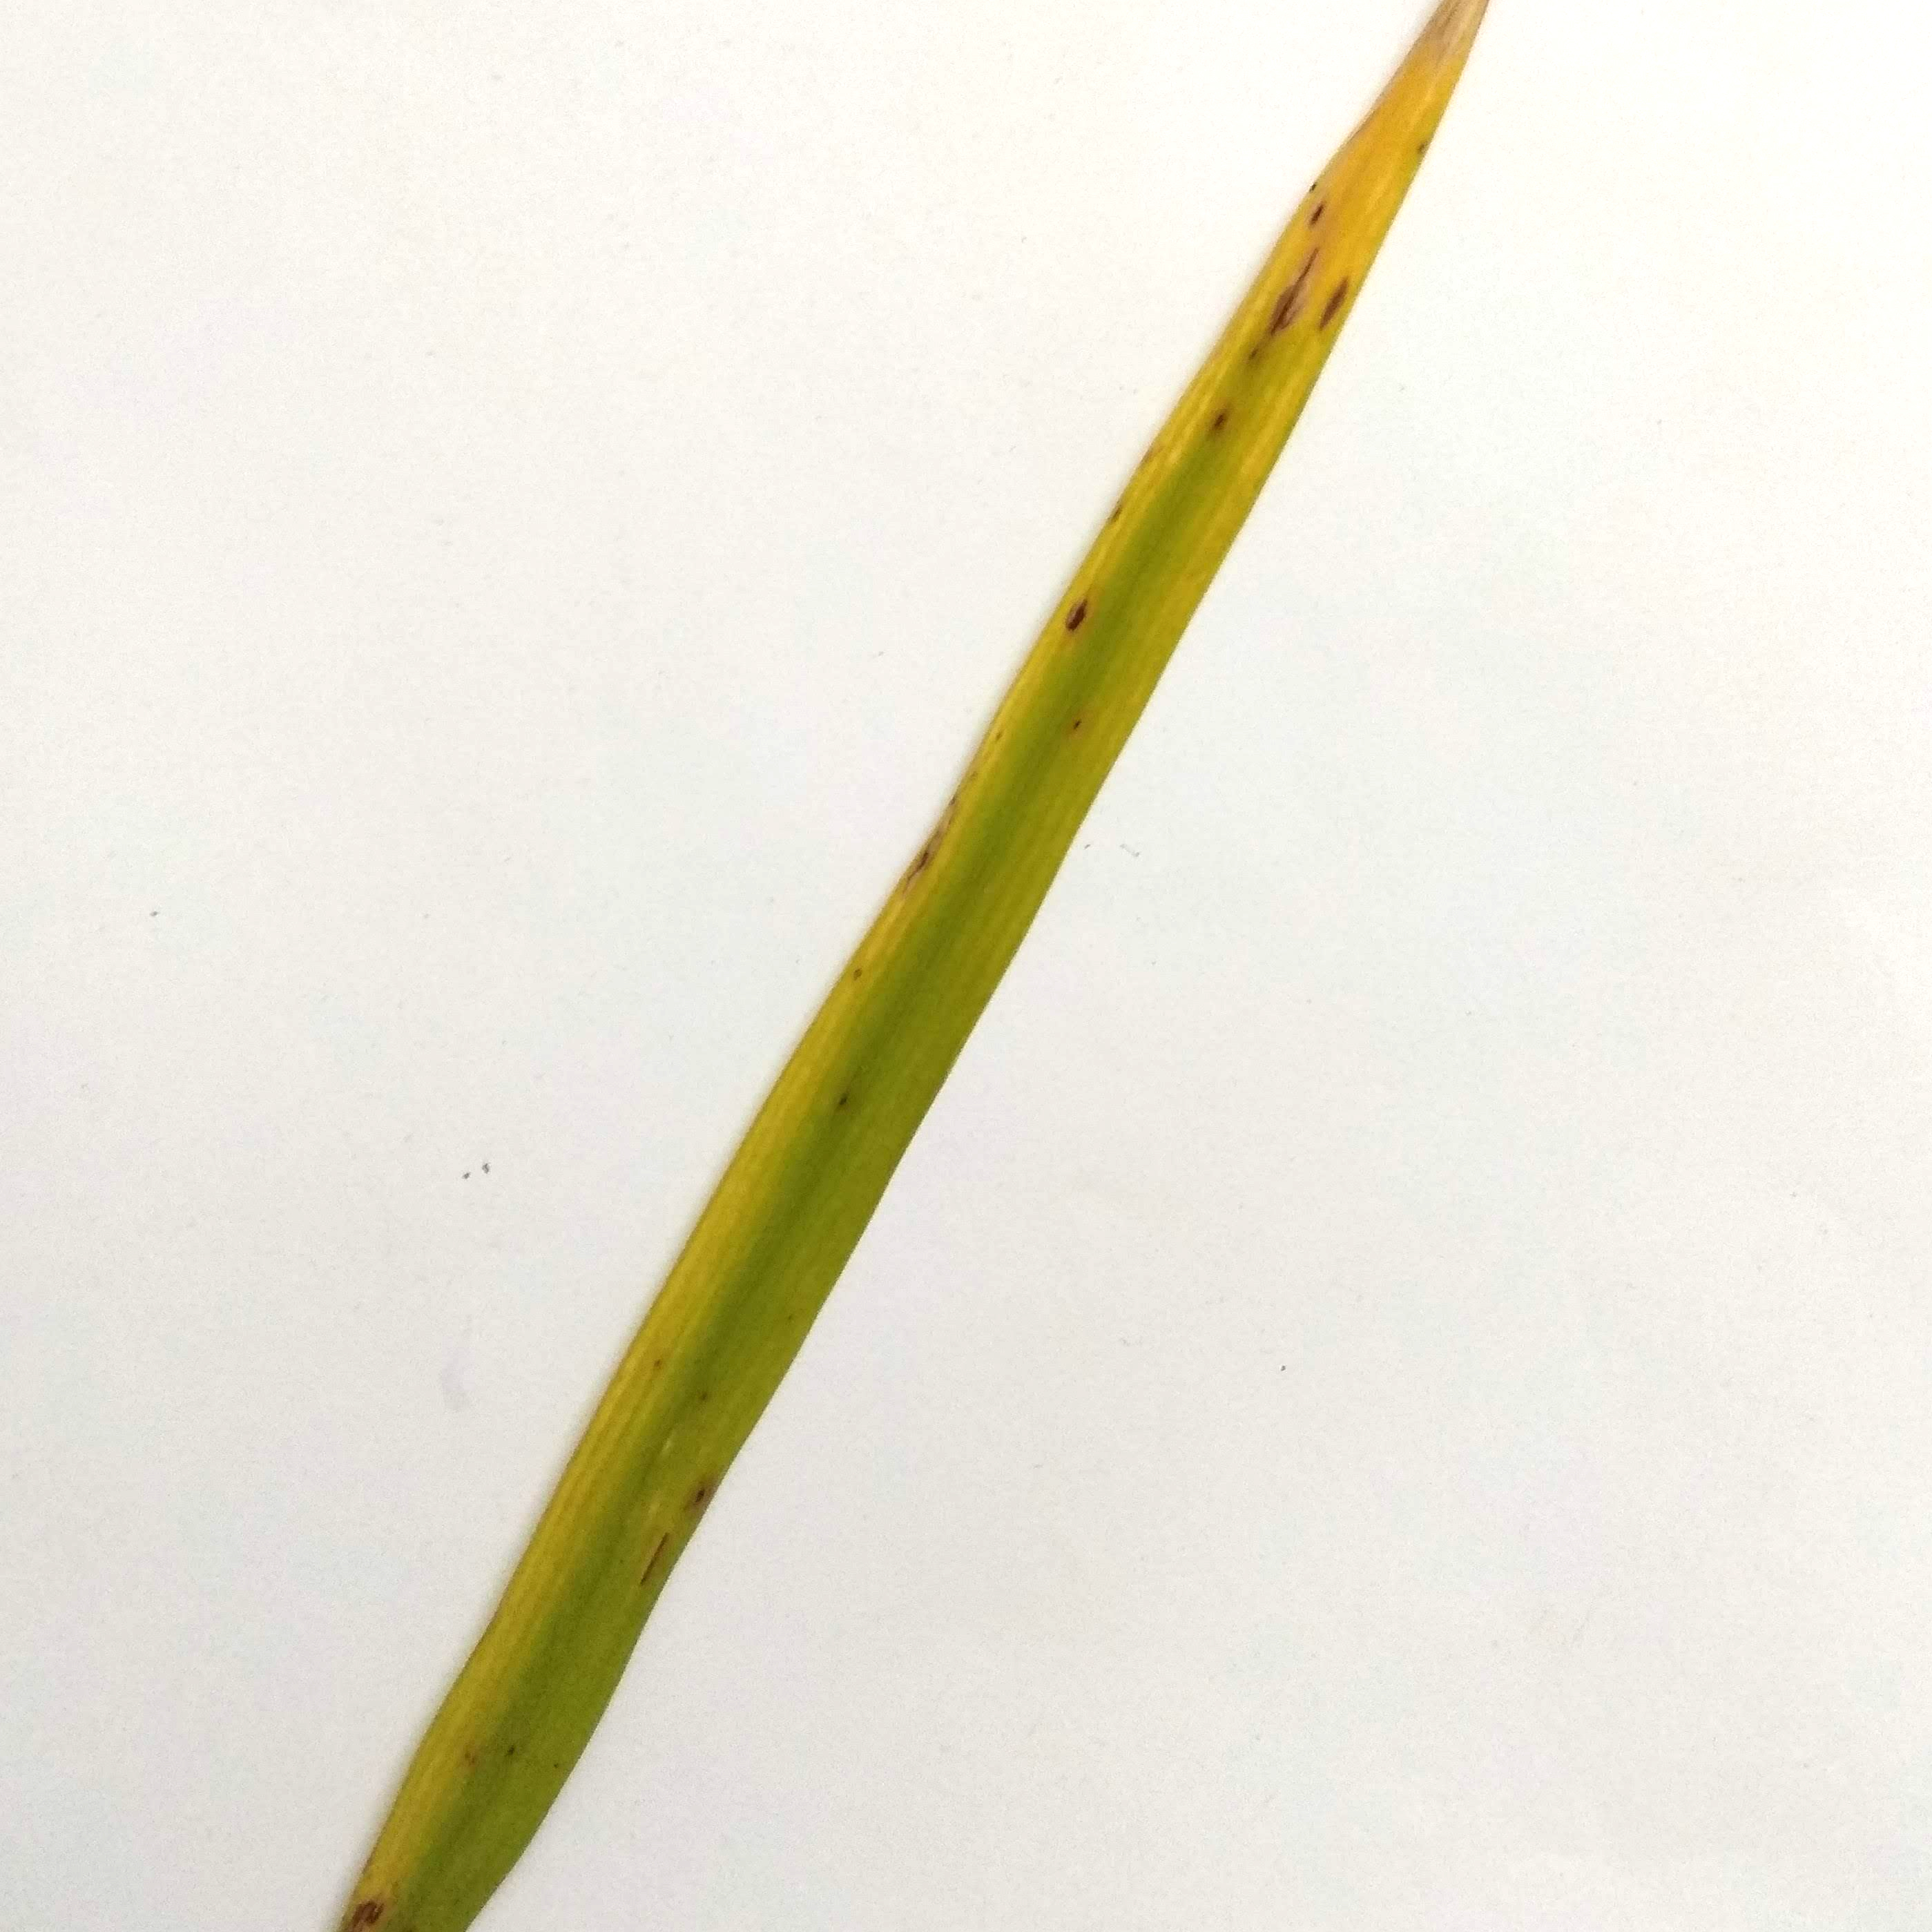brown spot: (318, 1, 1492, 1932)
